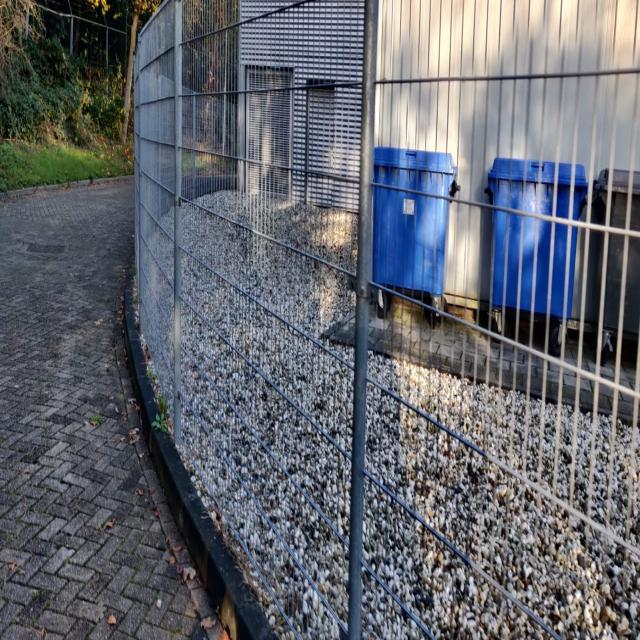fence line: (124, 17, 638, 640)
